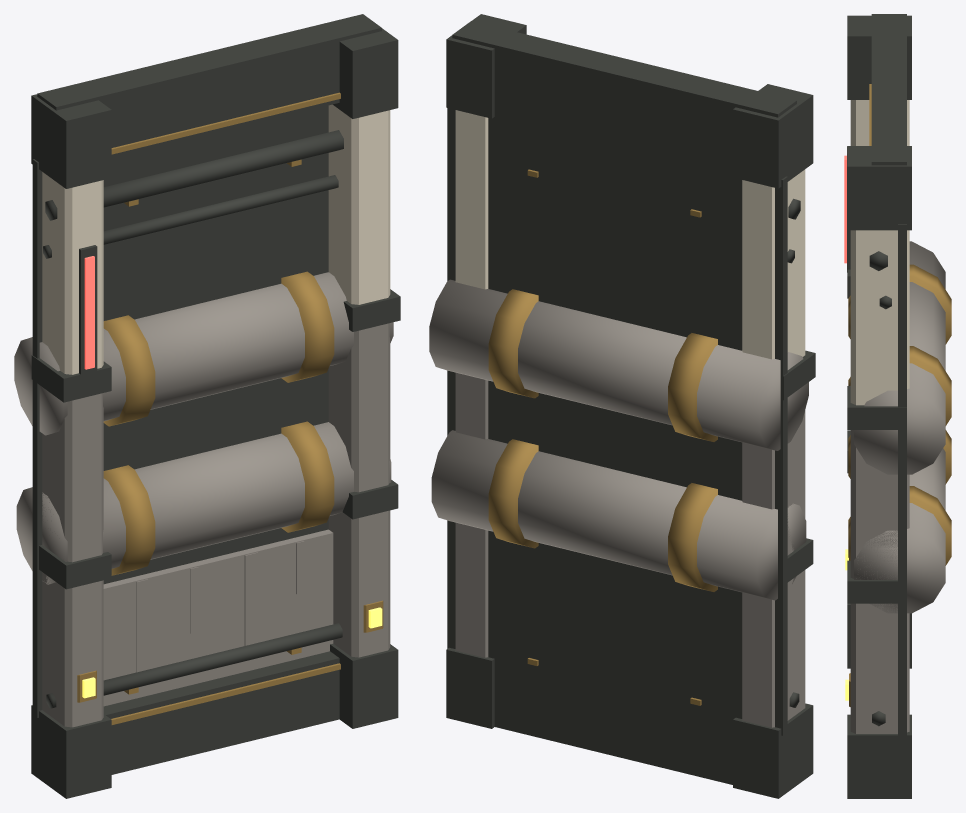
Rendered from b2_wall.glb.
The picture shows the model from 3 angles, left to right: view 1: azimuth 30°, elevation 25°; view 2: azimuth 150°, elevation 25°; view 3: azimuth 270°, elevation 25°; orthographic projection. The views are drawn at different scales.
Visible parts, largest first — view 1: b2_wall; view 2: b2_wall; view 3: b2_wall.
Part boxes in pixels (x1,y1,x2,y2): b2_wall: (14, 14, 400, 798); b2_wall: (429, 14, 815, 798); b2_wall: (844, 14, 951, 798).
Bounding box in the file's own units: 2.07 × 4 × 0.6106.
